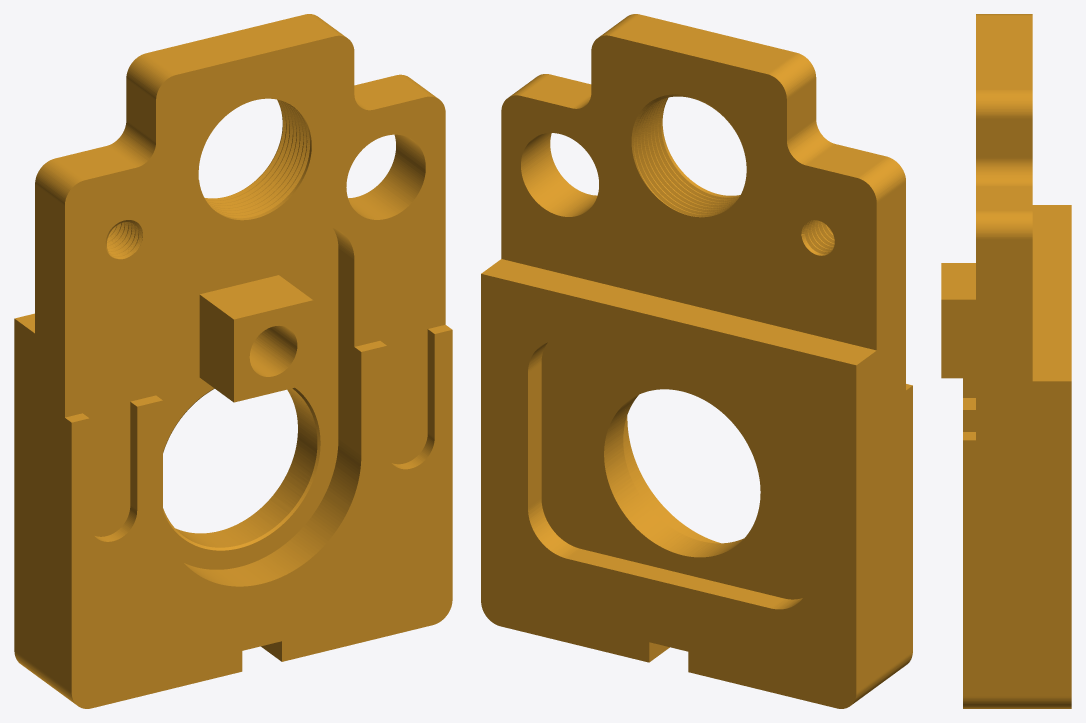
The picture shows the model from 3 angles, left to right: view 1: azimuth 30°, elevation 25°; view 2: azimuth 150°, elevation 25°; view 3: azimuth 270°, elevation 25°; orthographic projection. The views are drawn at different scales.
Bounding box in the file's own units: 96 × 146 × 30.
